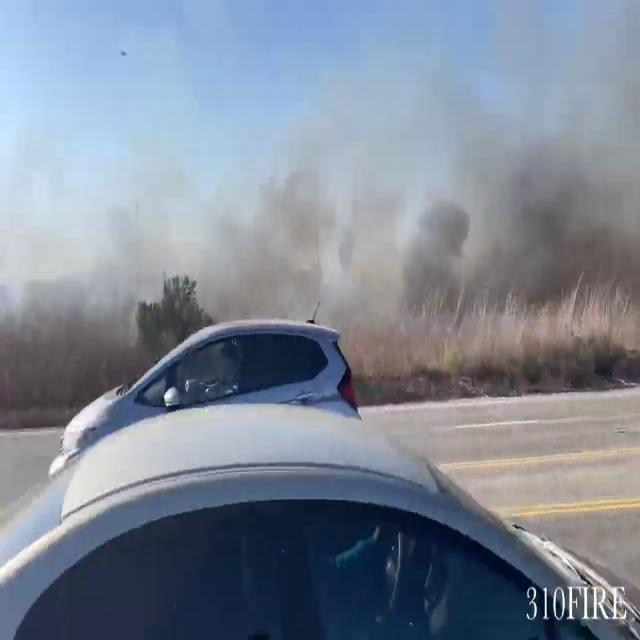Smoke: (228, 4, 640, 368)
